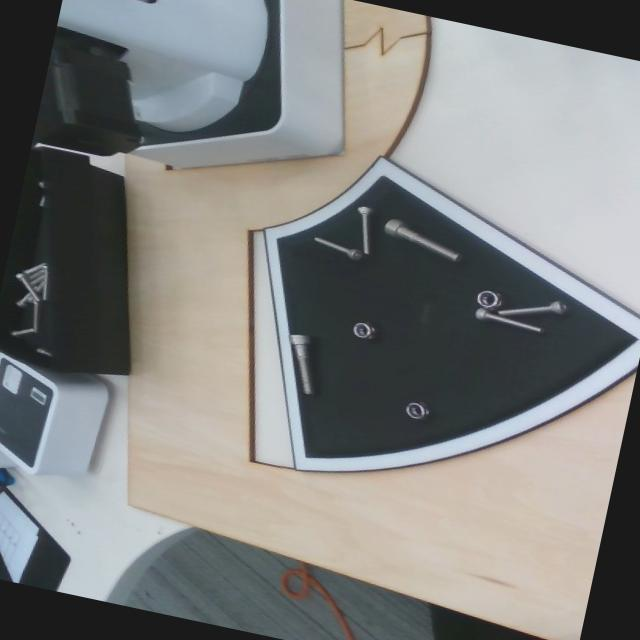big: (381, 213, 464, 268), (287, 328, 316, 398)
board: (213, 137, 640, 536)
circle: (399, 396, 433, 424), (348, 317, 382, 344), (472, 288, 506, 314)
small: (471, 303, 545, 336), (309, 234, 367, 264), (349, 203, 380, 254), (495, 298, 572, 318)
